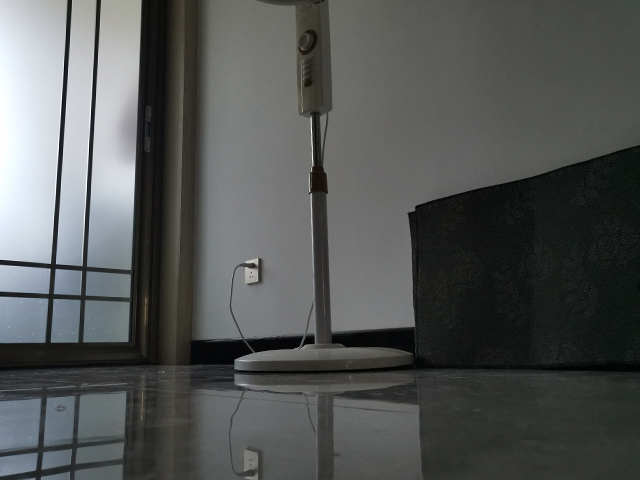carpet: (396, 144, 639, 370)
wire: (227, 260, 316, 359)
